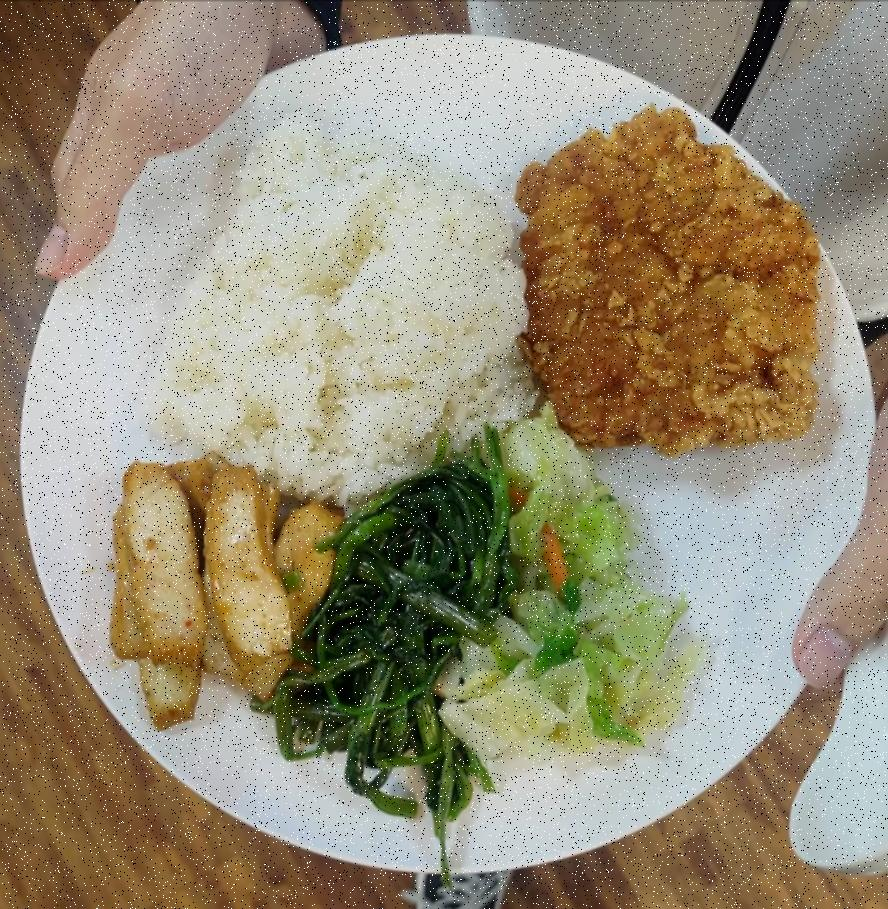kara chicken leg steak: (512, 99, 828, 458)
plate: (22, 16, 886, 875)
side dish: (279, 450, 514, 813), (460, 428, 693, 764), (96, 451, 349, 736)
white rice: (132, 104, 537, 500)
